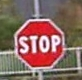stop: (13, 16, 65, 69)
